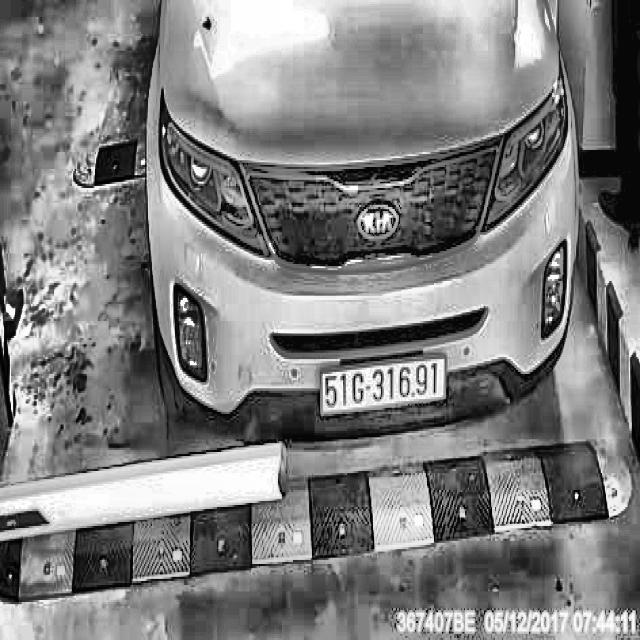plate: (318, 351, 449, 423)
